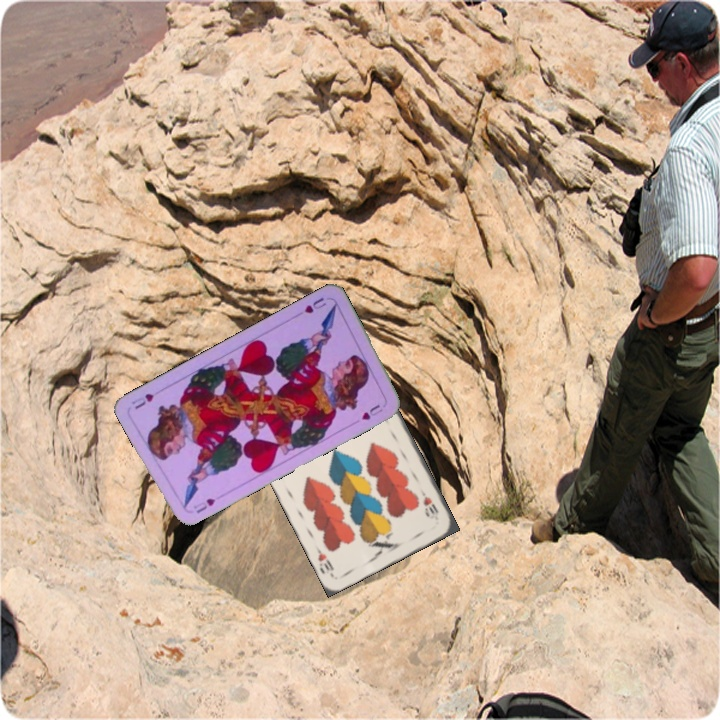H10: (416, 485, 441, 517)
HU: (300, 293, 329, 316), (189, 494, 218, 516)
